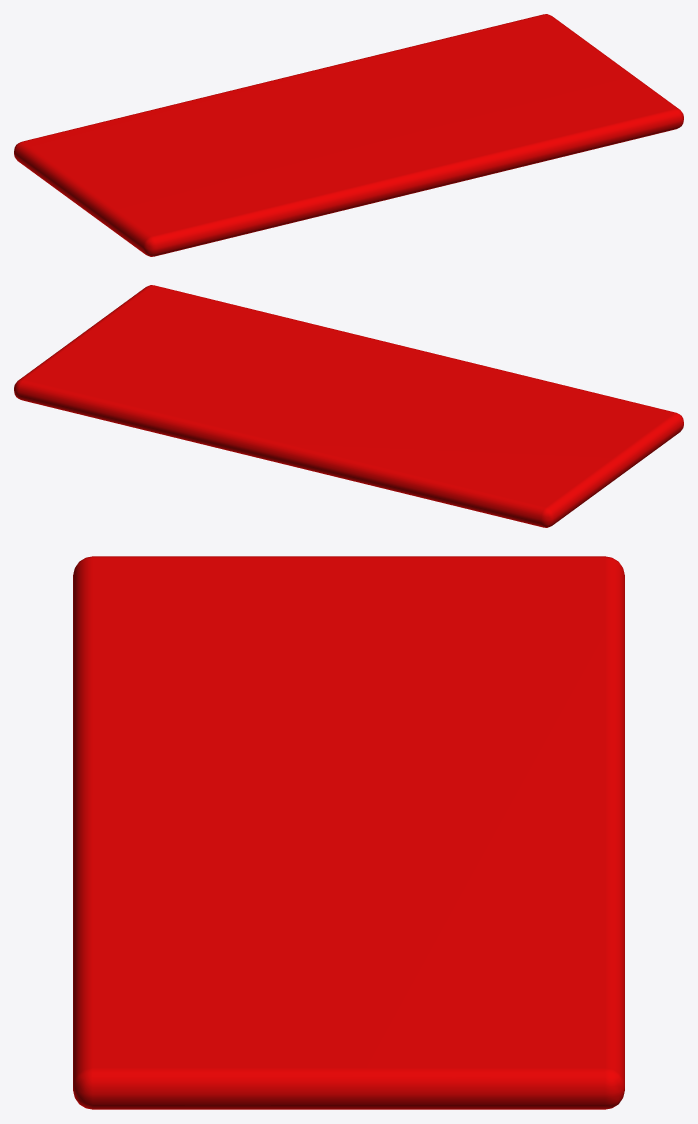
The model's file is mop_pad_1.fbx.
3 views of the same model, one above another, from view 1: azimuth 30°, elevation 25°; view 2: azimuth 150°, elevation 25°; view 3: azimuth 270°, elevation 25° (orthographic). The views are drawn at different scales.
Visible parts, largest first — view 1: Mop_Pad; view 2: Mop_Pad; view 3: Mop_Pad.
Part boxes in pixels (box(x1,y1,x2,y2)): Mop_Pad: box(14, 14, 683, 256); Mop_Pad: box(14, 285, 683, 527); Mop_Pad: box(73, 556, 624, 1109).
Bounding box in the file's own units: 50.99 × 1.8 × 22.6.
